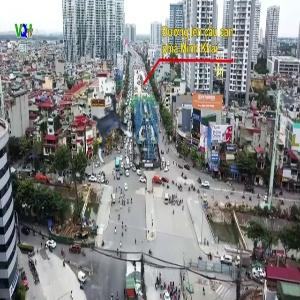drone: (79, 99, 145, 165)
